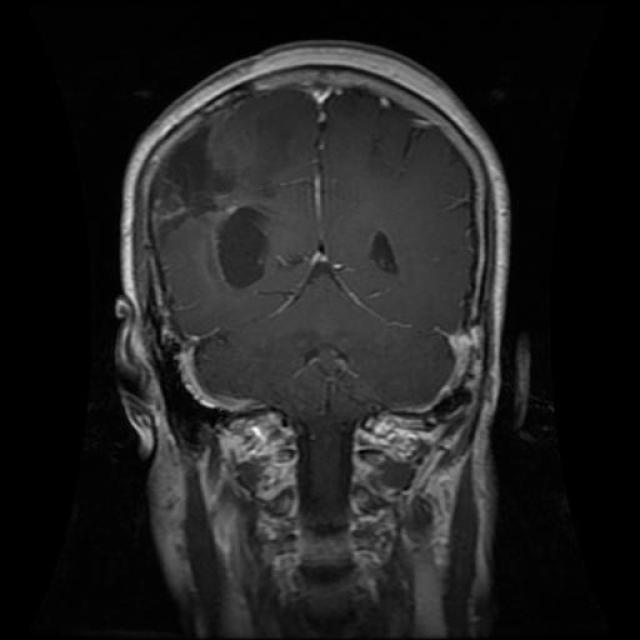glioma: (204, 204, 282, 296)
